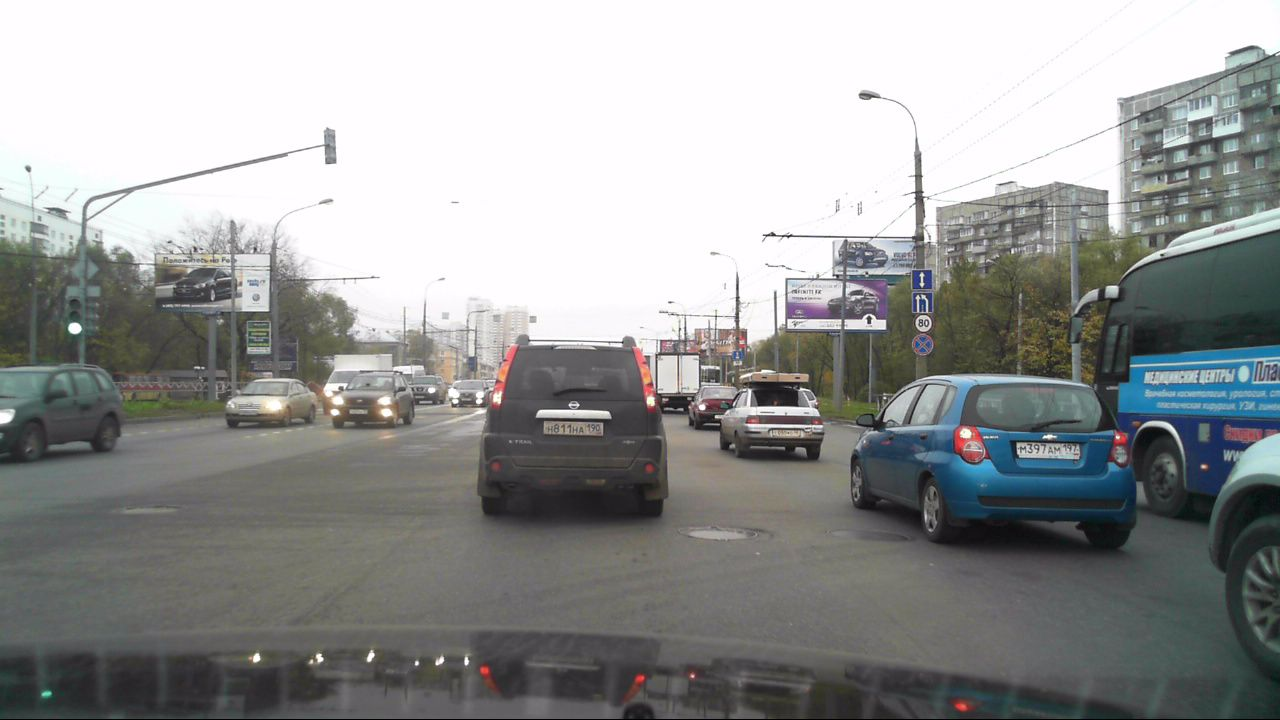No Parking: (910, 333, 934, 356)
